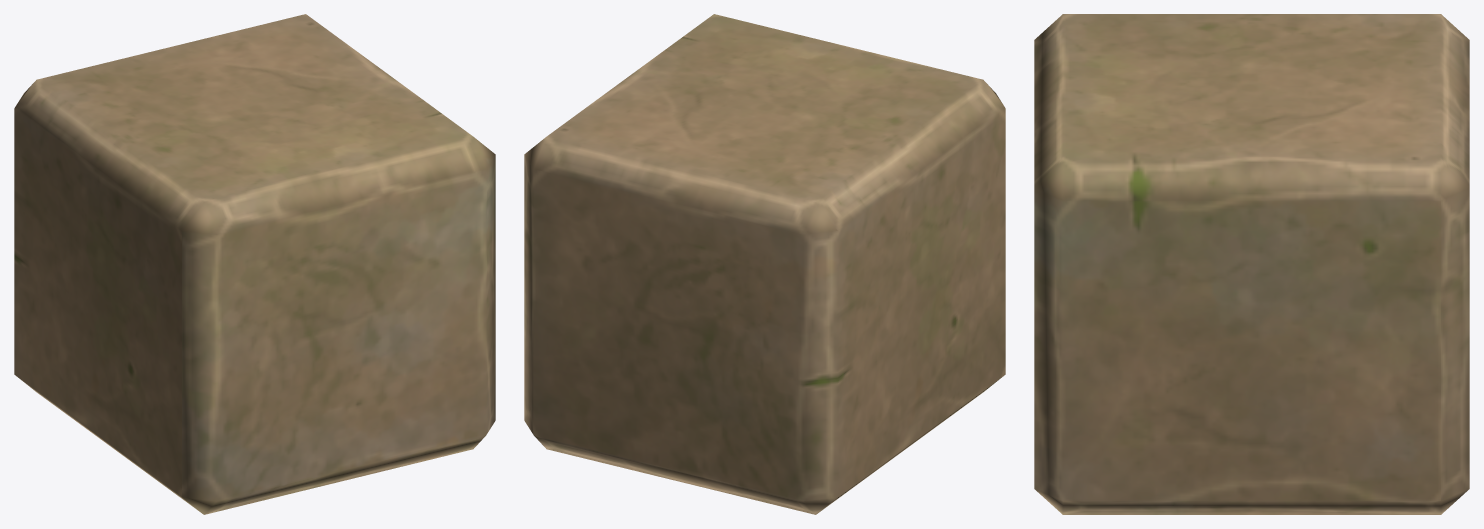
File: SM_Brick_Kit_5.fbx
3 views of the same model, side by side, from view 1: azimuth 30°, elevation 25°; view 2: azimuth 150°, elevation 25°; view 3: azimuth 270°, elevation 25° (orthographic). The views are drawn at different scales.
Visible parts, largest first — view 1: SM_Brick_Kit_5_LOD0; view 2: SM_Brick_Kit_5_LOD0; view 3: SM_Brick_Kit_5_LOD0.
Part boxes in pixels (x1,y1,x2,y2): SM_Brick_Kit_5_LOD0: (14,14,495,514); SM_Brick_Kit_5_LOD0: (524,14,1005,514); SM_Brick_Kit_5_LOD0: (1034,14,1469,514).
Bounding box in the file's own units: 20 × 21.33 × 19.05.
Materials: 1 (1 with a texture image).
